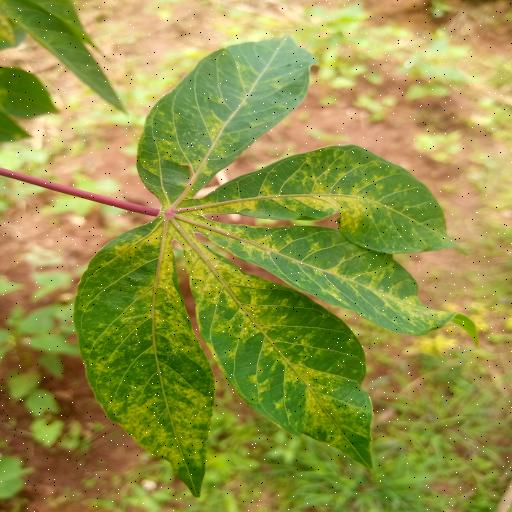Cassava_Mosaic: (70, 28, 455, 506)
